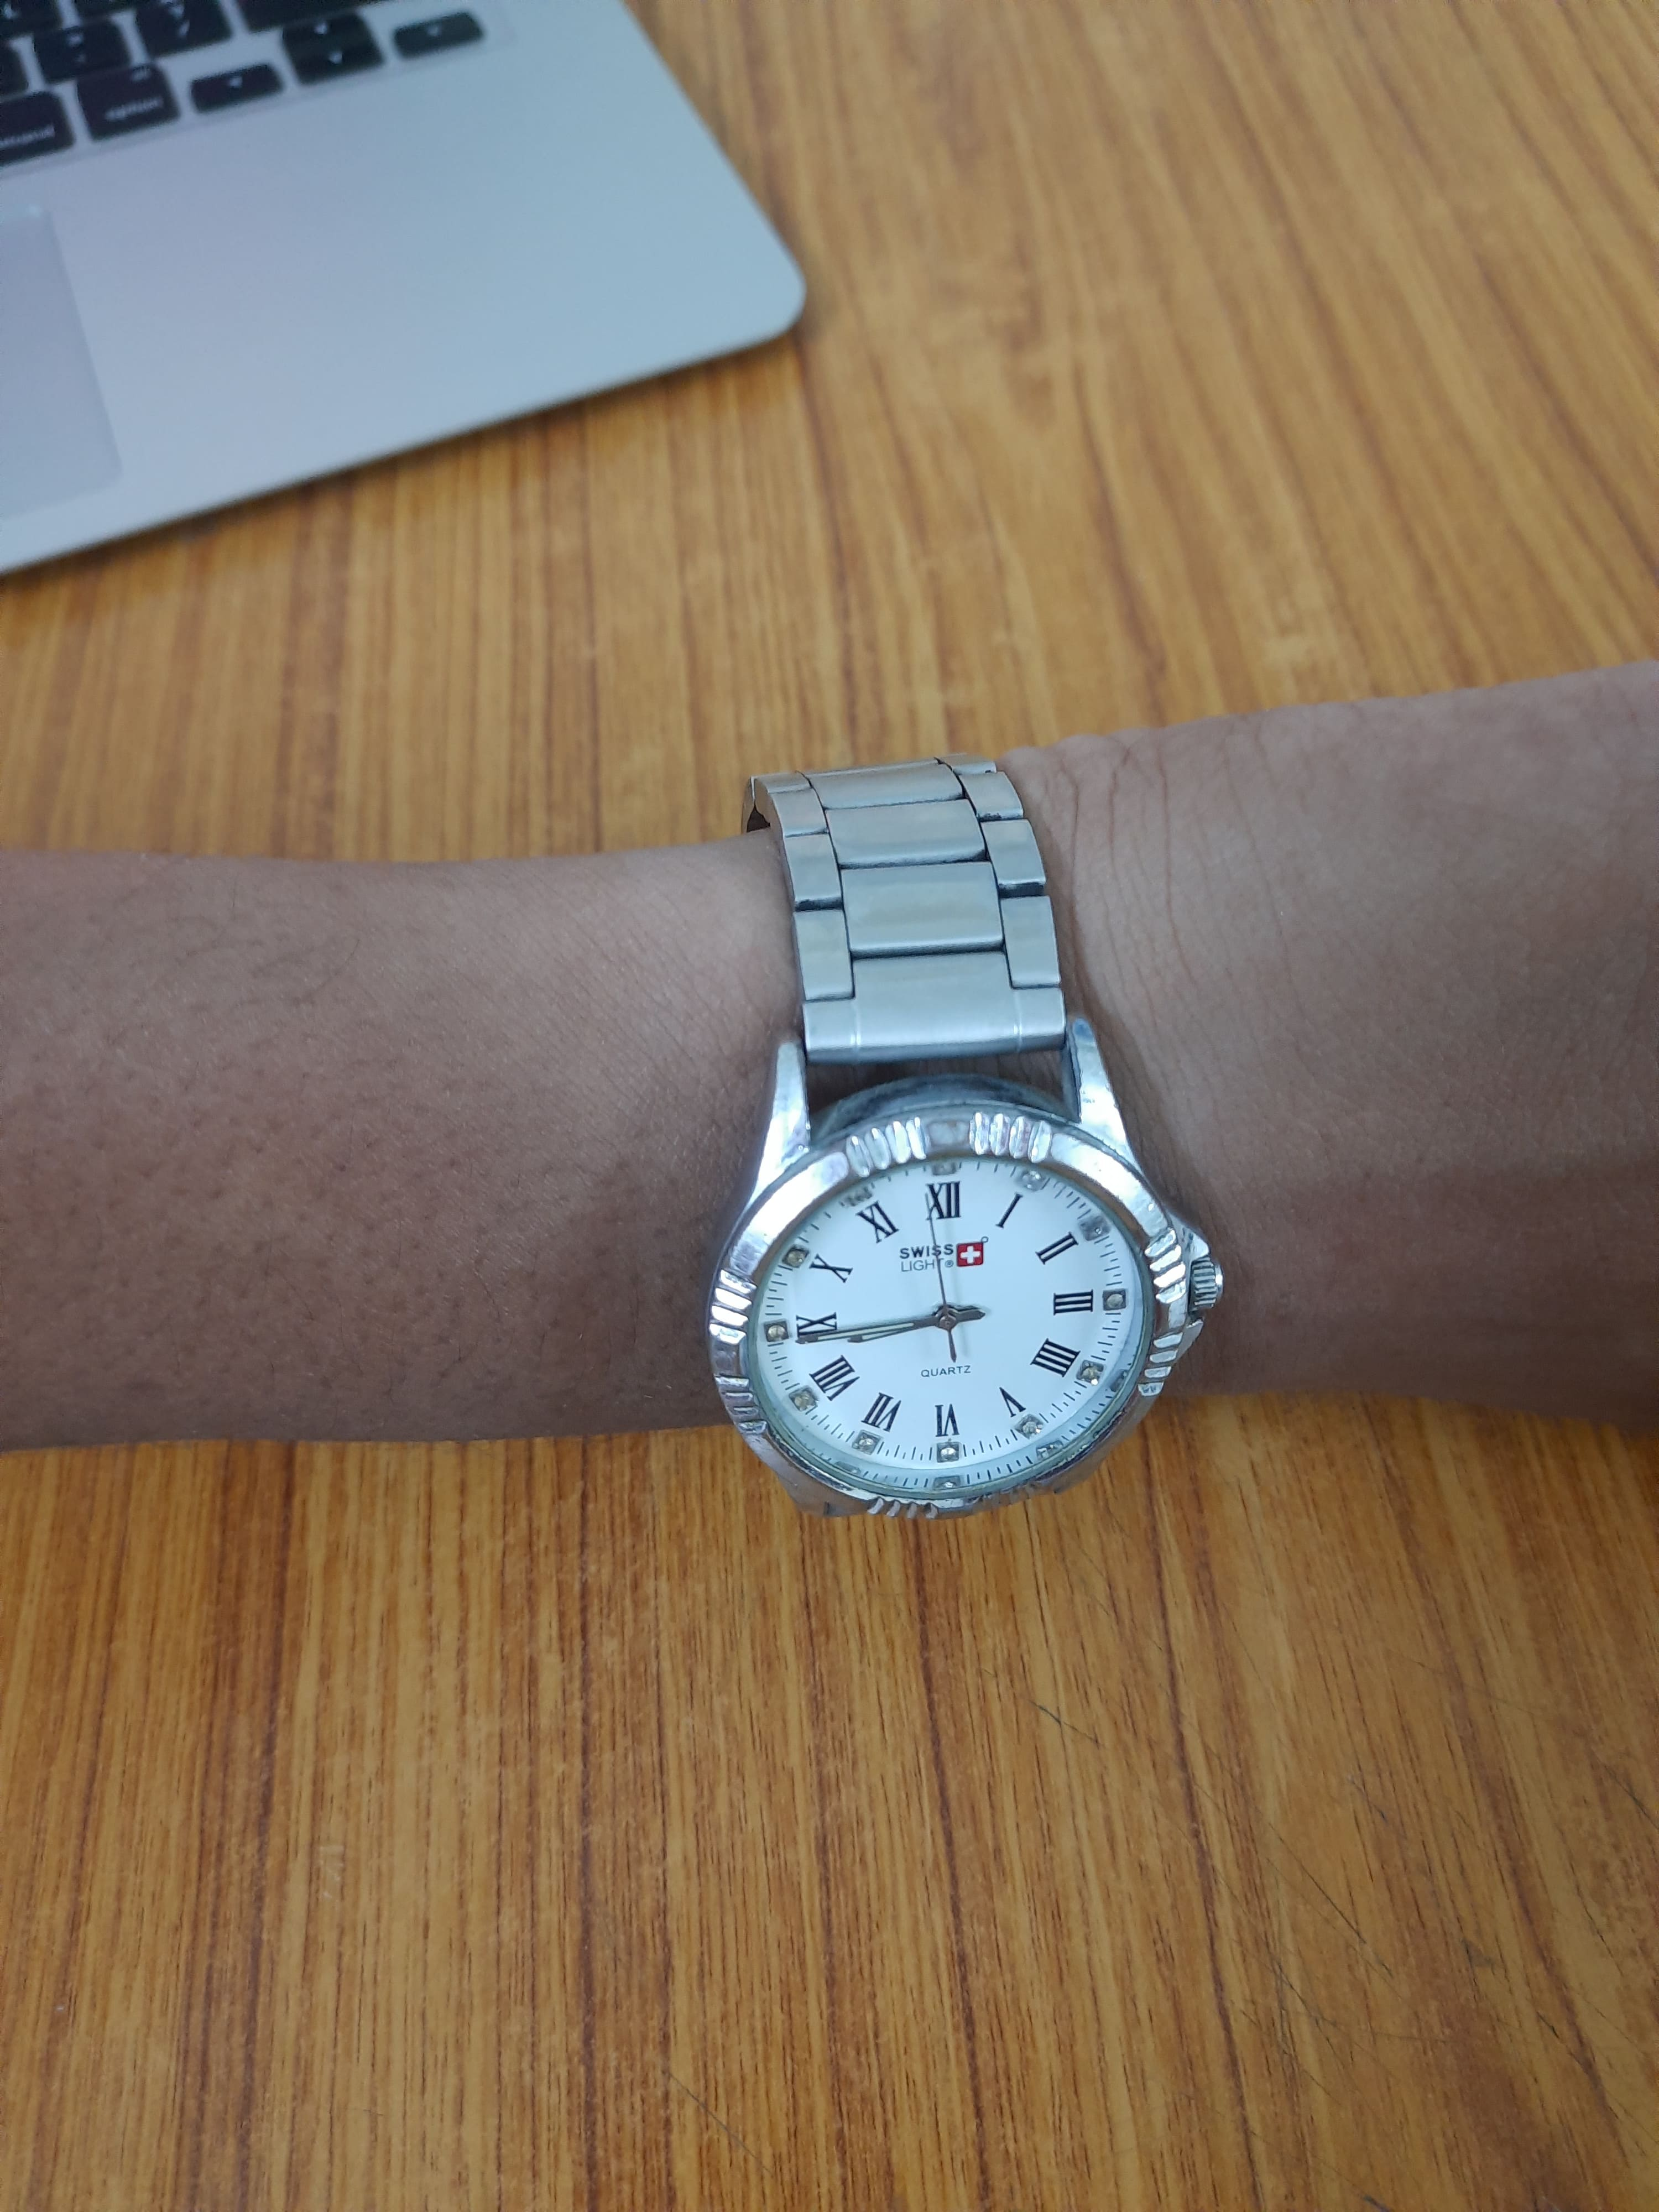Vikash's Watch: (714, 763, 1232, 1559)
